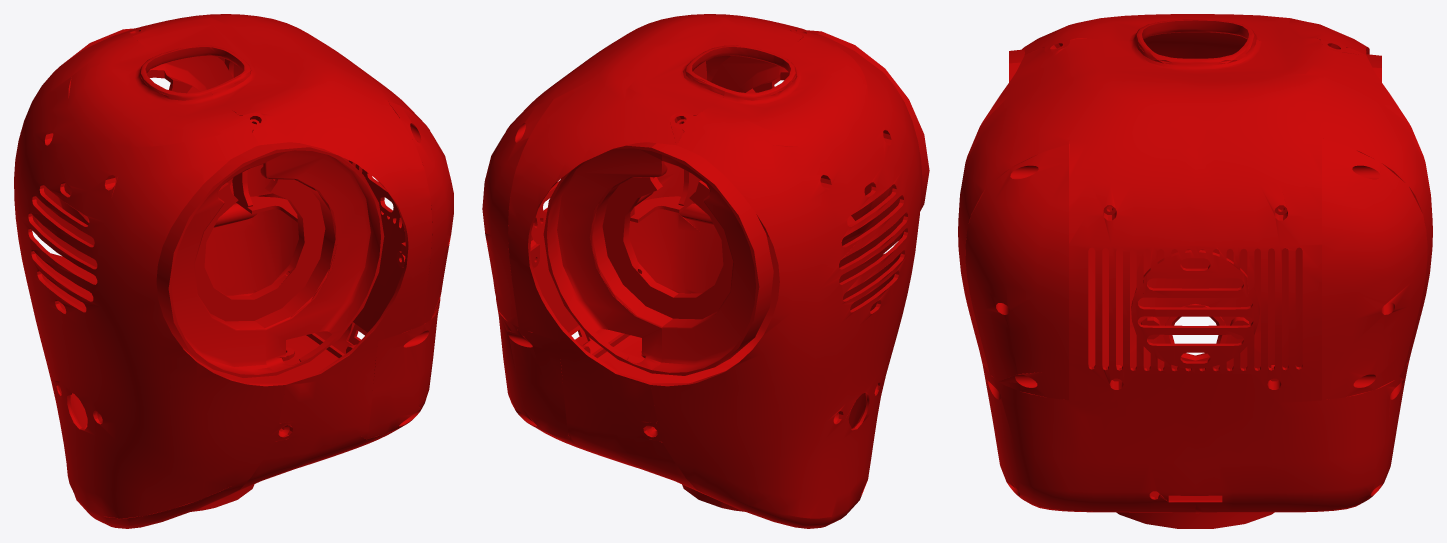
Rendered from asm0001_collada_10_prt.dae.
3 views of the same model, side by side, from view 1: azimuth 30°, elevation 25°; view 2: azimuth 150°, elevation 25°; view 3: azimuth 270°, elevation 25° (orthographic). The views are drawn at different scales.
Visible parts, largest first — view 1: ShapeIndexedFaceSet, ShapeIndexedFaceSet_001, ShapeIndexedFaceSet_006, ShapeIndexedFaceSet_002, ShapeIndexedFaceSet_005, ShapeIndexedFaceSet_003, ShapeIndexedFaceSet_008, ShapeIndexedFaceSet_007, ShapeIndexedFaceSet_004; view 2: ShapeIndexedFaceSet, ShapeIndexedFaceSet_001, ShapeIndexedFaceSet_008, ShapeIndexedFaceSet_002, ShapeIndexedFaceSet_007, ShapeIndexedFaceSet_004, ShapeIndexedFaceSet_005, ShapeIndexedFaceSet_006, ShapeIndexedFaceSet_003; view 3: ShapeIndexedFaceSet_001, ShapeIndexedFaceSet_002, ShapeIndexedFaceSet_004, ShapeIndexedFaceSet_003, ShapeIndexedFaceSet.
Part boxes in pixels (<box>): ShapeIndexedFaceSet: <box>14,28,296,528</box>; ShapeIndexedFaceSet_001: <box>113,14,432,507</box>; ShapeIndexedFaceSet_006: <box>249,142,384,375</box>; ShapeIndexedFaceSet_002: <box>204,196,438,438</box>; ShapeIndexedFaceSet_005: <box>156,144,276,377</box>; ShapeIndexedFaceSet_003: <box>387,100,453,324</box>; ShapeIndexedFaceSet_008: <box>124,28,232,186</box>; ShapeIndexedFaceSet_007: <box>20,29,126,267</box>; ShapeIndexedFaceSet_004: <box>233,63,286,199</box>; ShapeIndexedFaceSet: <box>640,28,922,528</box>; ShapeIndexedFaceSet_001: <box>506,14,823,507</box>; ShapeIndexedFaceSet_008: <box>543,142,678,372</box>; ShapeIndexedFaceSet_002: <box>497,196,723,439</box>; ShapeIndexedFaceSet_007: <box>651,143,773,375</box>; ShapeIndexedFaceSet_004: <box>482,99,553,326</box>; ShapeIndexedFaceSet_005: <box>818,31,929,267</box>; ShapeIndexedFaceSet_006: <box>711,30,821,237</box>; ShapeIndexedFaceSet_003: <box>635,162,683,206</box>; ShapeIndexedFaceSet_001: <box>958,34,1432,528</box>; ShapeIndexedFaceSet_002: <box>980,355,1409,512</box>; ShapeIndexedFaceSet_004: <box>1322,138,1427,400</box>; ShapeIndexedFaceSet_003: <box>965,144,1068,400</box>; ShapeIndexedFaceSet: <box>1022,14,1369,368</box>.
Bounding box in the file's own units: 5.33 × 5.63 × 6.45.
